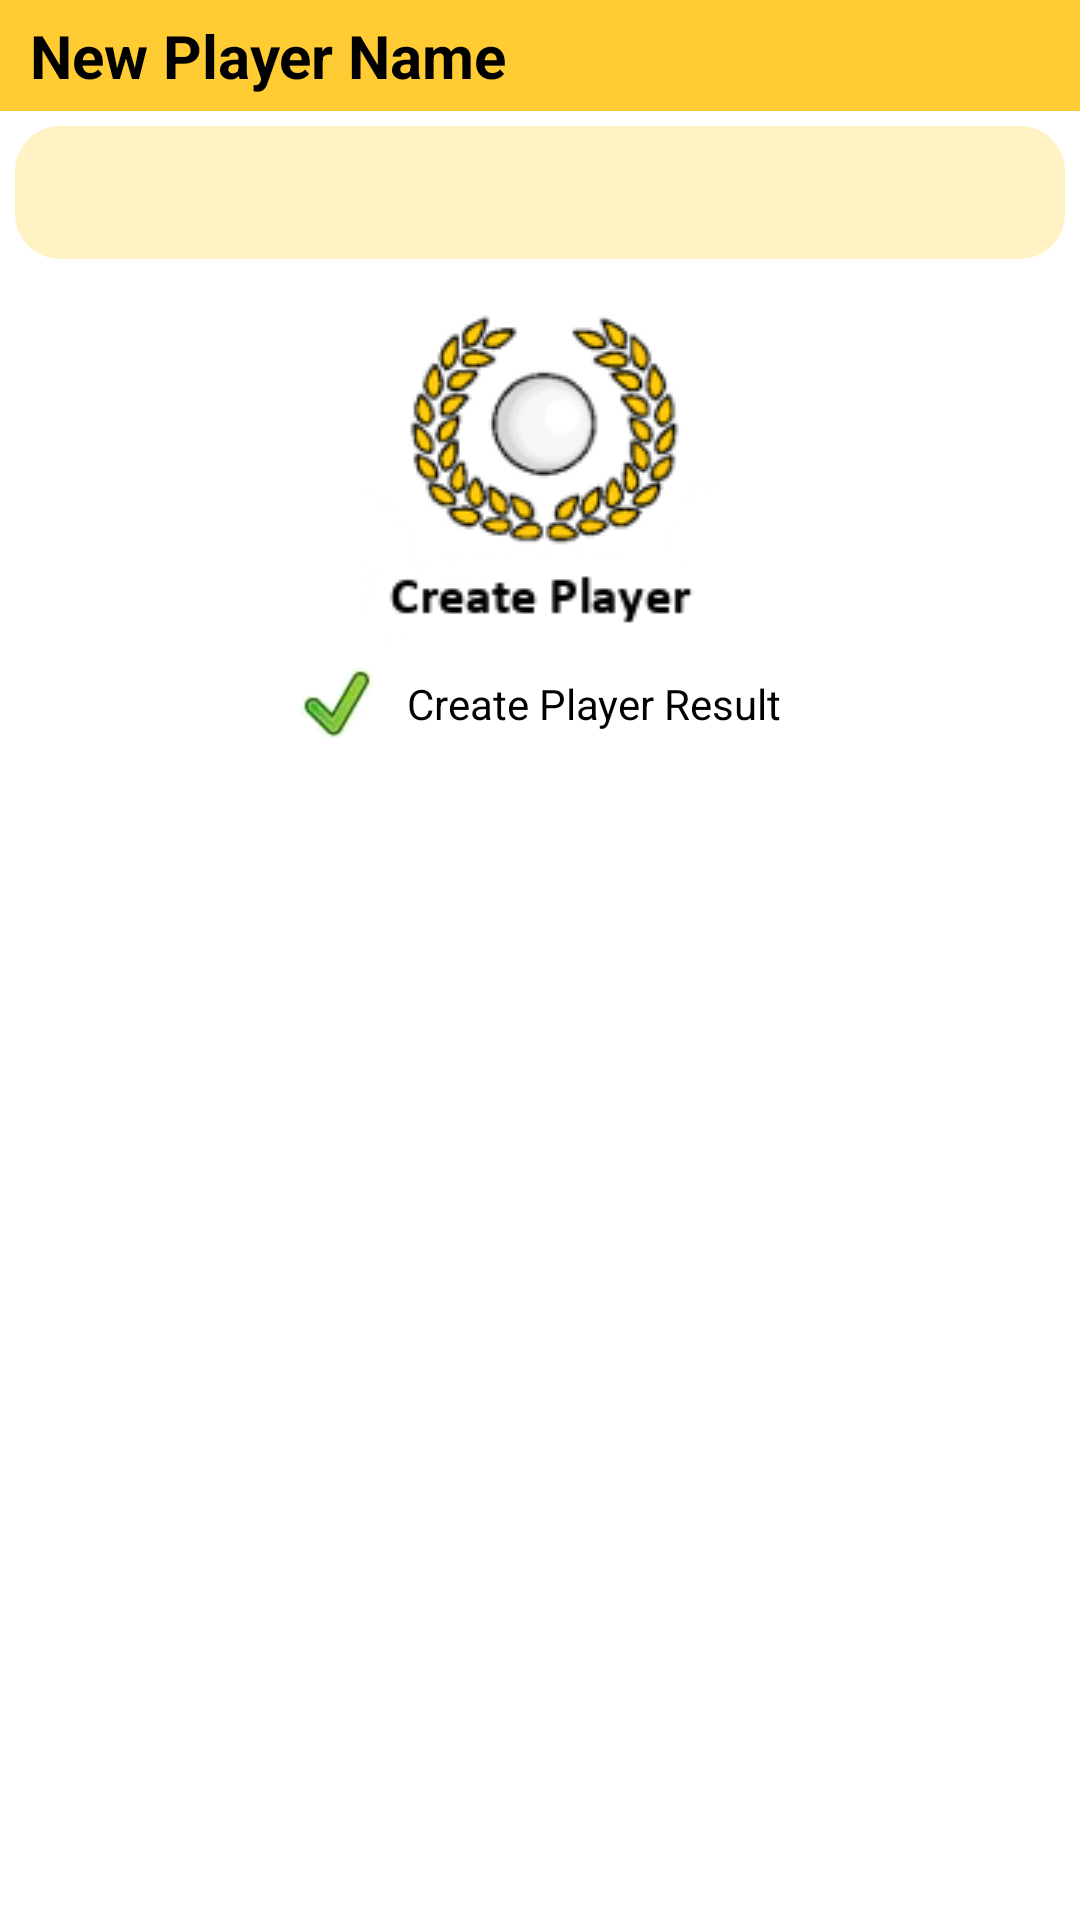

Where to tap for icons on this 1080w x 1920h app screen, as [x,y]:
checkmark: [337,703]
